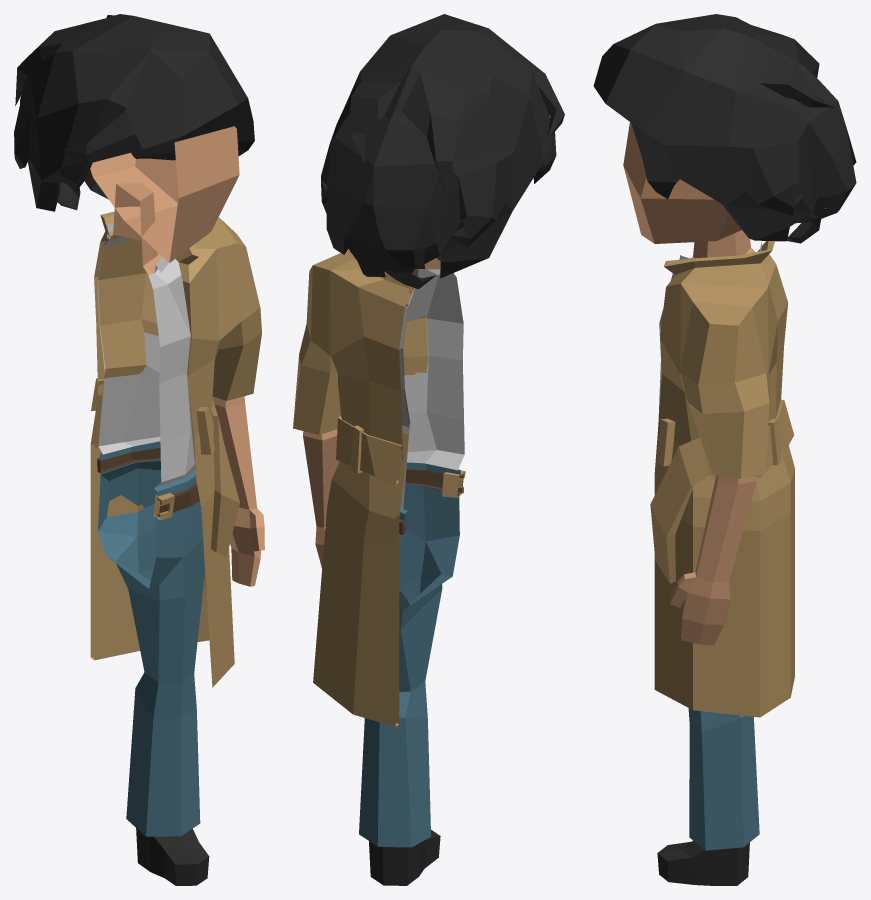
The model's file is fabianexp.glb.
3 renders of one model, left to right at view 1: azimuth 30°, elevation 25°; view 2: azimuth 150°, elevation 25°; view 3: azimuth 270°, elevation 25°, orthographic. The views are drawn at different scales.
Parts seen in each view (by area): view 1: Cube.003, Cube.004; view 2: Cube.003, Cube.004; view 3: Cube.003, Cube.004.
Part boxes in pixels (x1,y1,x2,y2): Cube.003: (90,126,264,885); Cube.004: (14,14,254,211); Cube.003: (293,249,465,885); Cube.004: (321,14,564,289); Cube.003: (623,122,794,885); Cube.004: (593,14,856,243).
Size of the model in its own units: 2.11 by 7.78 by 2.22.
